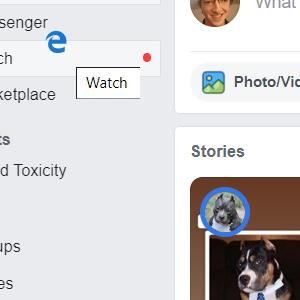edge: (45, 30, 67, 53)
